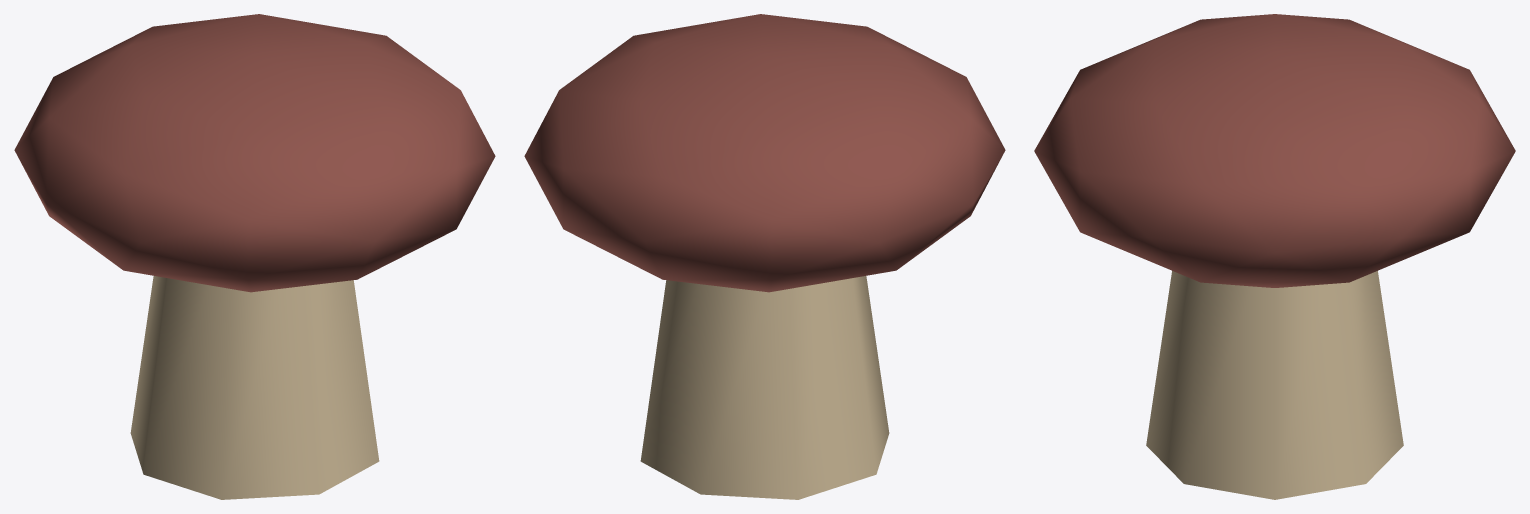
File: mushroom.glb
The picture shows the model from 3 angles, left to right: view 1: azimuth 30°, elevation 25°; view 2: azimuth 150°, elevation 25°; view 3: azimuth 270°, elevation 25°; orthographic projection.
Visible parts, largest first — view 1: mushroom; view 2: mushroom; view 3: mushroom.
Part boxes in pixels (left/top/right/bottom): mushroom: left=14, top=14, right=495, bottom=499; mushroom: left=524, top=14, right=1005, bottom=499; mushroom: left=1034, top=14, right=1515, bottom=499.
Bounding box in the file's own units: 0.86 × 0.7735 × 0.86.
